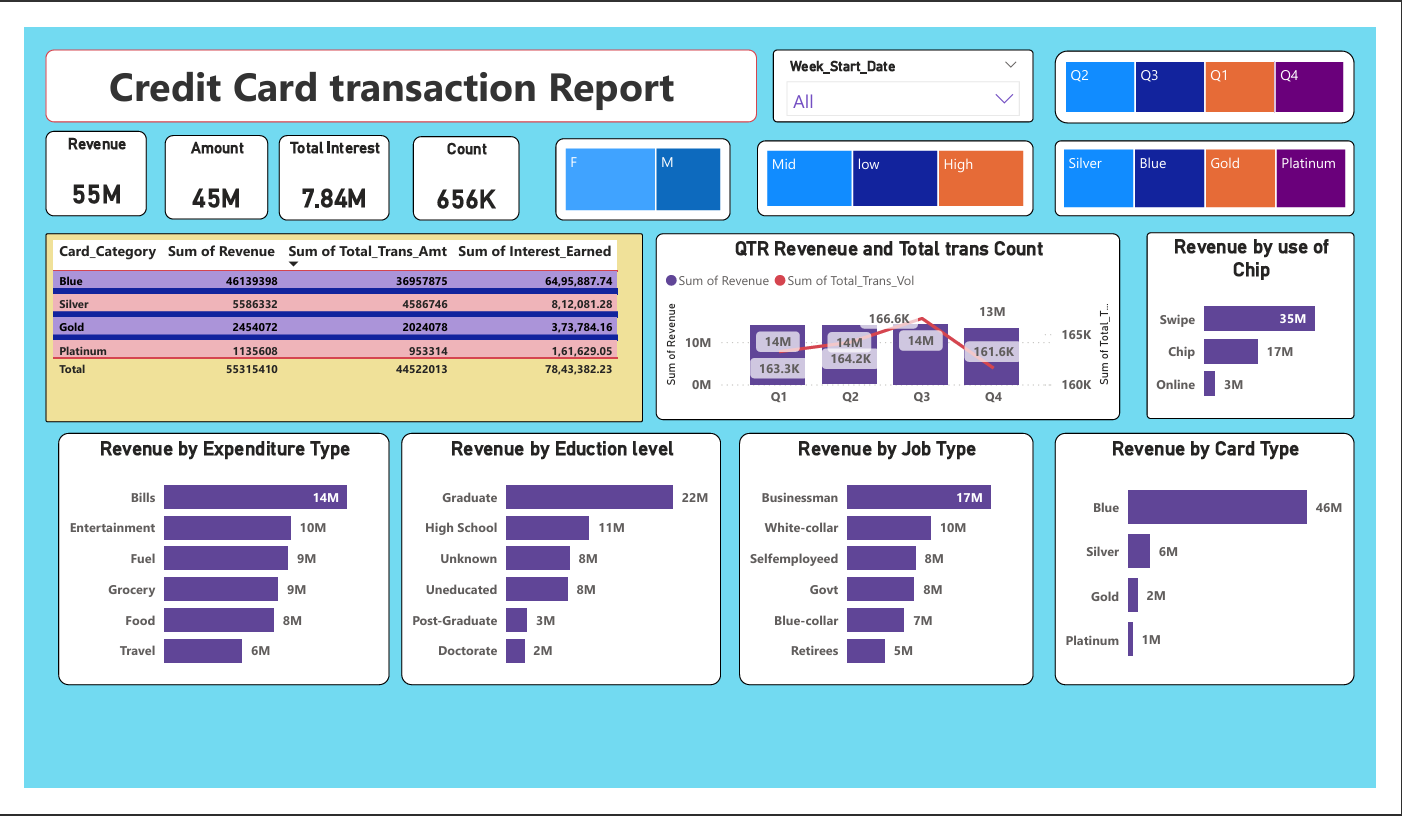

The page's visual inventory and layout, read from the dashboard file:
{"tool":"powerbi","page":{"name":"CC Transaction","canvas":[1280,720],"ordinal":1},"visuals":[{"type":"textbox","box":[20,21,674,69],"z":0},{"type":"lineStackedColumnComboChart","title":"QTR Reveneue and Total trans Count","fields":{"Category":["credit_card.Qtr"],"Y":["Sum(credit_card.Revenue)"],"Y2":["Sum(credit_card.Total_Trans_Vol)"]},"box":[598,195,440,177],"z":1000},{"type":"barChart","title":" Revenue by Expenditure Type","fields":{"Y":["Sum(credit_card.Revenue)"],"Category":["credit_card.Exp Type"]},"box":[32,384,314,239],"z":2000},{"type":"barChart","title":" Revenue by Eduction level","fields":{"Y":["Sum(credit_card.Revenue)"],"Category":["customer.Education_Level"]},"box":[357,384,303,239],"z":3000},{"type":"barChart","title":" Revenue by Job Type","fields":{"Y":["Sum(credit_card.Revenue)"],"Category":["customer.Customer_Job"]},"box":[677,384,279,239],"z":4000},{"type":"barChart","title":" Revenue by Card Type","fields":{"Y":["Sum(credit_card.Revenue)"],"Category":["credit_card.Card_Category"]},"box":[976,384,284,239],"z":5000},{"type":"barChart","title":" Revenue by use of Chip","fields":{"Y":["Sum(credit_card.Revenue)"],"Category":["credit_card.Use Chip"]},"box":[1063,194,197,177],"z":6000},{"type":"tableEx","fields":{"Values":["credit_card.Card_Category","Sum(credit_card.Revenue)","Sum(credit_card.Total_Trans_Amt)","Sum(credit_card.Interest_Earned)"]},"box":[20,195,566,179],"z":7000},{"type":"cardVisual","title":"Revenue","fields":{"Data":["Sum(credit_card.Revenue)"]},"box":[20,98,96,81],"z":8000},{"type":"cardVisual","title":"Amount","fields":{"Data":["Sum(credit_card.Total_Trans_Amt)"]},"box":[133,102,98,80],"z":9000},{"type":"cardVisual","title":"Total Interest","fields":{"Data":["Sum(credit_card.Interest_Earned)"]},"box":[241,102,105,81],"z":10000},{"type":"cardVisual","title":"Count","fields":{"Data":["Sum(credit_card.Total_Trans_Vol)"]},"box":[368,103,101,80],"z":11000},{"type":"slicer","fields":{"Values":["credit_card.Week_Start_Date"]},"box":[709,21,247,69],"z":12000},{"type":"treemap","fields":{"Group":["credit_card.Qtr"],"Values":["CountNonNull(credit_card.Client_Num)"]},"box":[976,22,284,69],"z":13000},{"type":"treemap","fields":{"Group":["customer.Gender"],"Values":["CountNonNull(credit_card.Client_Num)"]},"box":[503,105,166,78],"z":14000},{"type":"treemap","fields":{"Values":["Avg(credit_card.Client_Num)"],"Group":["customer.IncomeGroup"]},"box":[694,107,262,72],"z":15000},{"type":"treemap","fields":{"Group":["credit_card.Card_Category"],"Values":["Avg(credit_card.Client_Num)"]},"box":[976,107,284,72],"z":16000}]}

Visuals, with their boxes in screenshot pixels (x1, y1, x2, y2):
textbox: (x1=54, y1=51, x2=756, y2=123)
"QTR Reveneue and Total trans Count" lineStackedColumnComboChart: (x1=656, y1=232, x2=1114, y2=417)
" Revenue by Expenditure Type" barChart: (x1=66, y1=429, x2=393, y2=678)
" Revenue by Eduction level" barChart: (x1=405, y1=429, x2=721, y2=678)
" Revenue by Job Type" barChart: (x1=738, y1=429, x2=1029, y2=678)
" Revenue by Card Type" barChart: (x1=1050, y1=429, x2=1346, y2=678)
" Revenue by use of Chip" barChart: (x1=1140, y1=231, x2=1346, y2=416)
tableEx - credit_card.Card_Category x Sum(credit_card.Revenue): (x1=54, y1=232, x2=643, y2=419)
"Revenue" cardVisual: (x1=54, y1=131, x2=154, y2=216)
"Amount" cardVisual: (x1=171, y1=135, x2=274, y2=219)
"Total Interest" cardVisual: (x1=284, y1=135, x2=393, y2=220)
"Count" cardVisual: (x1=416, y1=137, x2=522, y2=220)
slicer - credit_card.Week_Start_Date: (x1=772, y1=51, x2=1029, y2=123)
treemap - credit_card.Qtr x CountNonNull(credit_card.Client_Num): (x1=1050, y1=52, x2=1346, y2=124)
treemap - customer.Gender x CountNonNull(credit_card.Client_Num): (x1=557, y1=139, x2=730, y2=220)
treemap - Avg(credit_card.Client_Num) x customer.IncomeGroup: (x1=756, y1=141, x2=1029, y2=216)
treemap - credit_card.Card_Category x Avg(credit_card.Client_Num): (x1=1050, y1=141, x2=1346, y2=216)
